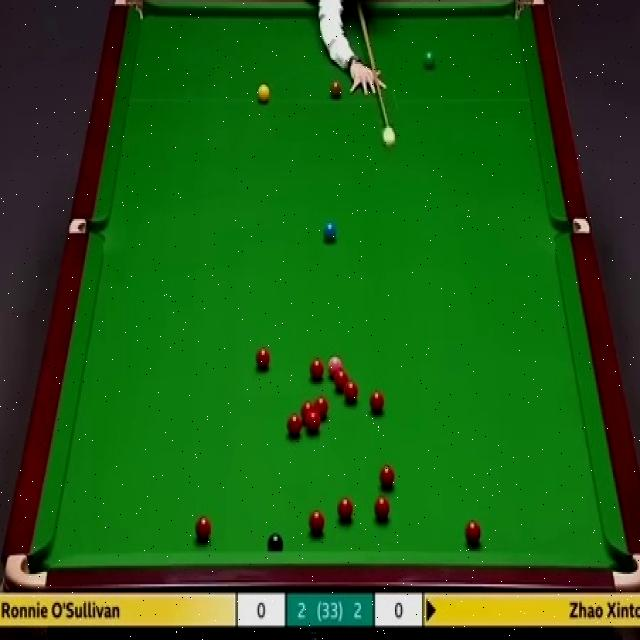black-ball: (269, 532, 287, 551)
blue-ball: (323, 222, 337, 239)
brown-ball: (330, 80, 343, 103)
green-ball: (424, 50, 434, 65)
pink-ball: (328, 355, 342, 375)
red-ball: (379, 463, 396, 491), (308, 509, 326, 535), (314, 395, 331, 422), (194, 515, 212, 540), (338, 493, 353, 522), (468, 519, 484, 546), (286, 413, 302, 438), (375, 496, 390, 520), (256, 346, 270, 371), (306, 412, 321, 434), (344, 382, 357, 404), (308, 358, 322, 378), (334, 368, 348, 388), (369, 392, 384, 410), (300, 402, 314, 421)
white-ball: (383, 127, 394, 145)
yellow-ball: (257, 82, 270, 104)
